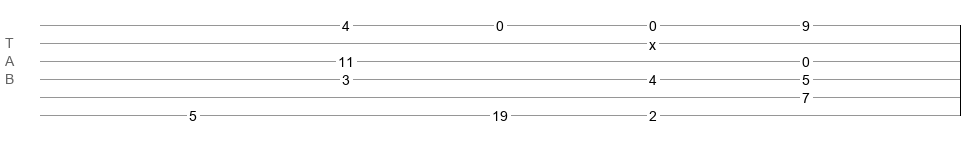0: (496, 18, 504, 28), (649, 18, 657, 28), (802, 54, 810, 64)
11: (338, 54, 354, 64)
19: (492, 108, 508, 118)
2: (649, 108, 657, 118)
3: (342, 72, 350, 82)
4: (342, 18, 350, 28), (649, 72, 657, 82)
5: (189, 108, 197, 118), (802, 72, 810, 82)
7: (802, 90, 810, 100)
9: (802, 18, 810, 28)
x: (649, 37, 656, 45)
